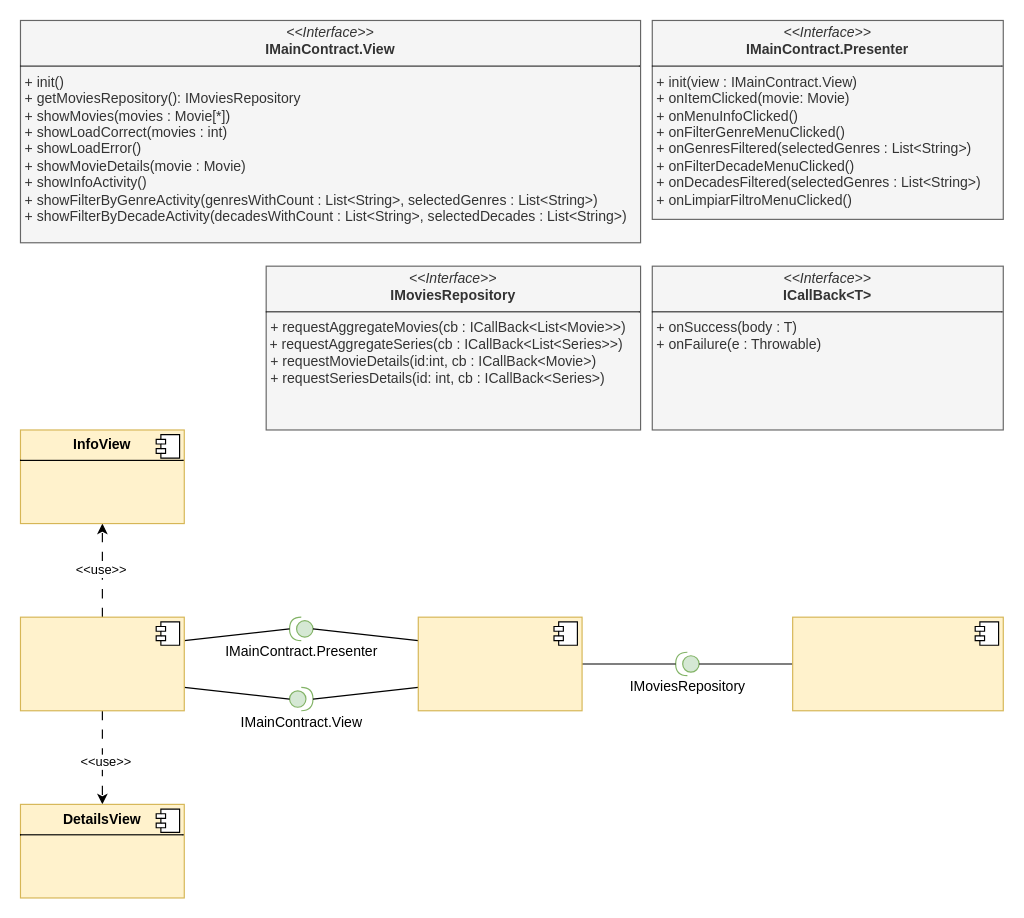
Some shapes in this 1024 by 918 pixel diagram are drawn without their labels. The shapes that lost their labels are listed below. From the top down, each one's centre as x and y in pixels, then its label:
At [101,663]: "MainView".
At [499,663]: "MainPresenter - load()".
At [897,663]: "MoviesRepository".
